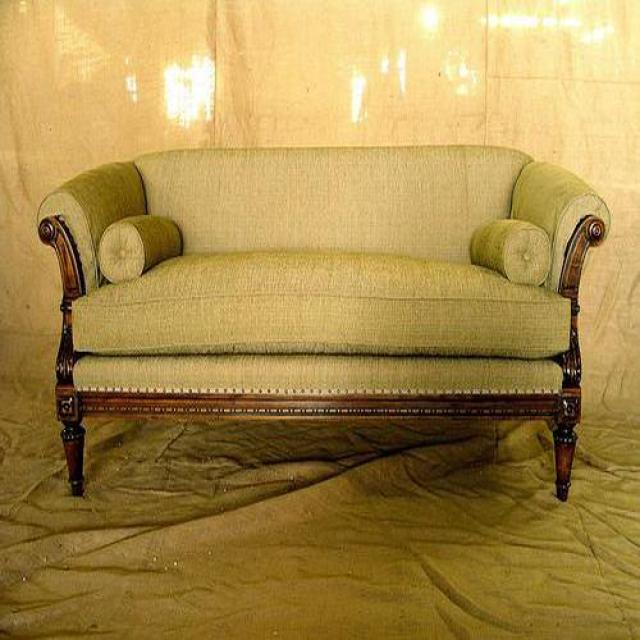sofa: (36, 146, 611, 499)
